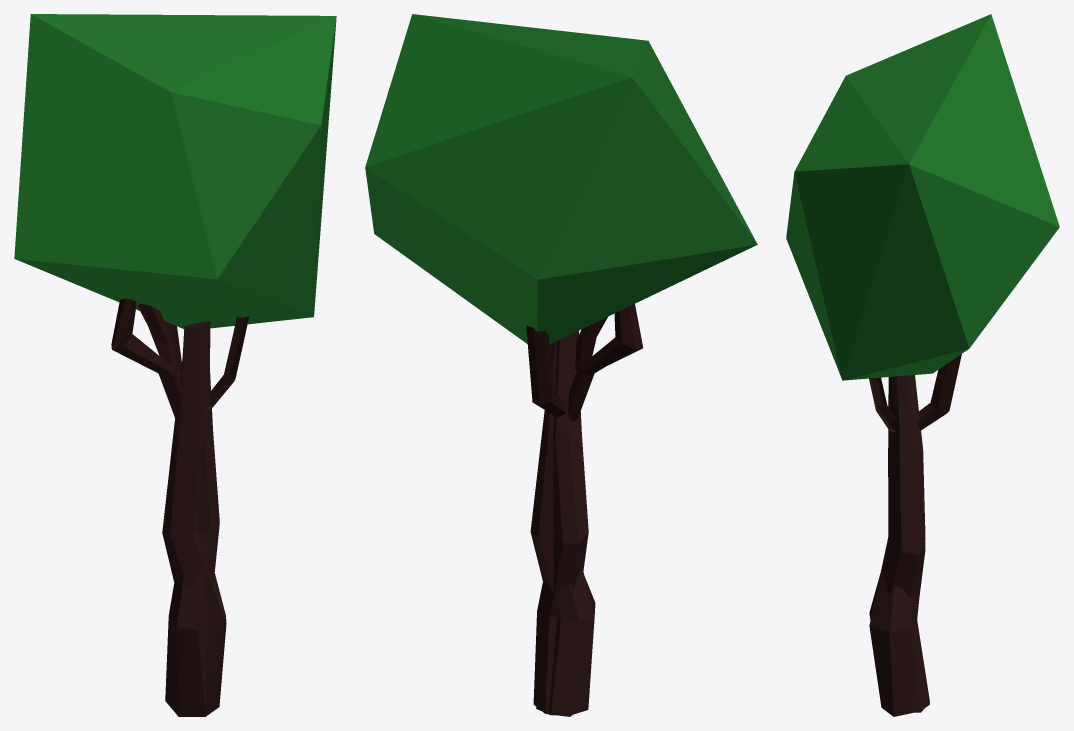
File: 1nimetre.glb
3 views of the same model, side by side, from view 1: azimuth 30°, elevation 25°; view 2: azimuth 150°, elevation 25°; view 3: azimuth 270°, elevation 25° (orthographic). The views are drawn at different scales.
Visible parts, largest first — view 1: Icosphere; view 2: Icosphere; view 3: Icosphere.
Part boxes in pixels (<box>): Icosphere: <box>14,14,336,716</box>; Icosphere: <box>365,14,757,716</box>; Icosphere: <box>786,14,1059,716</box>.
Size of the model in its own units: 0.9476 by 1.85 by 0.7145.
